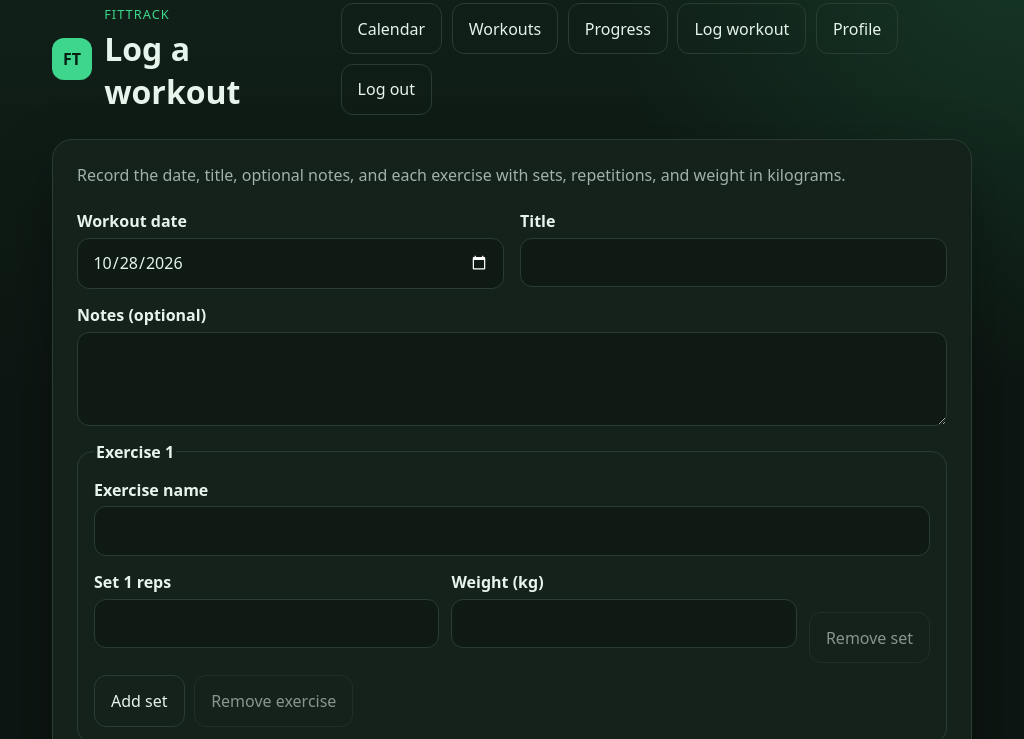
Test: S2 workout pages › keeps entered values when saving fails
This screenshot has width=1024, height=739.
Type "Push day" into the field labelled "Title" at [734, 262], box [520, 238, 947, 287]
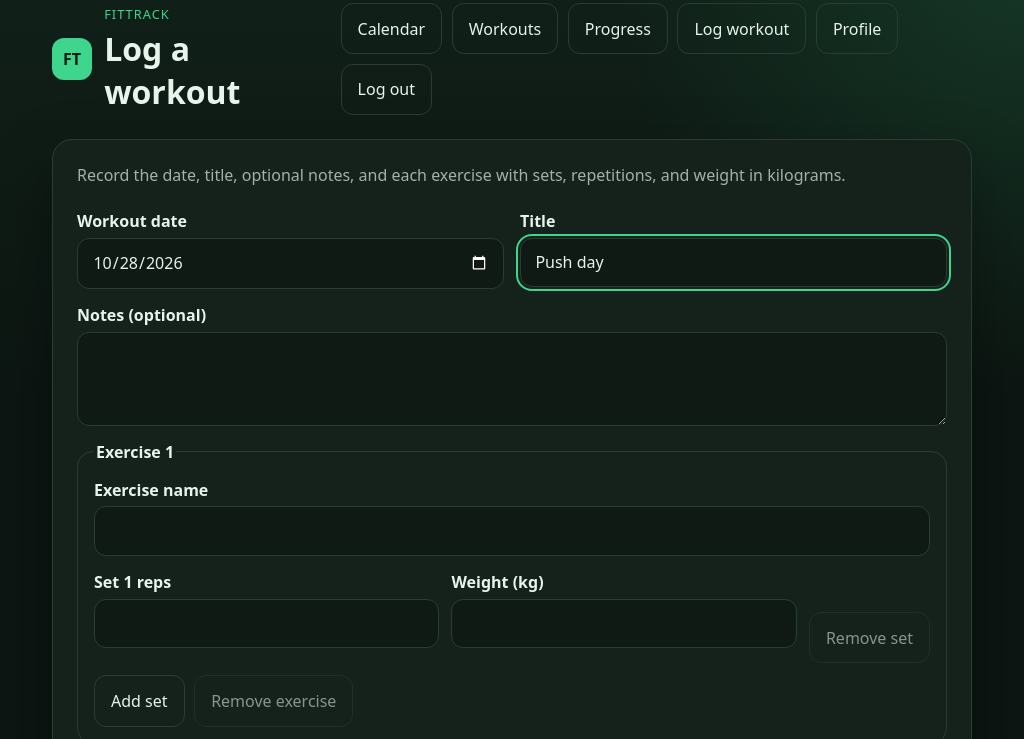
Type "Bench press" into the field labelled "Exercise name" at [512, 531], box [94, 506, 930, 556]
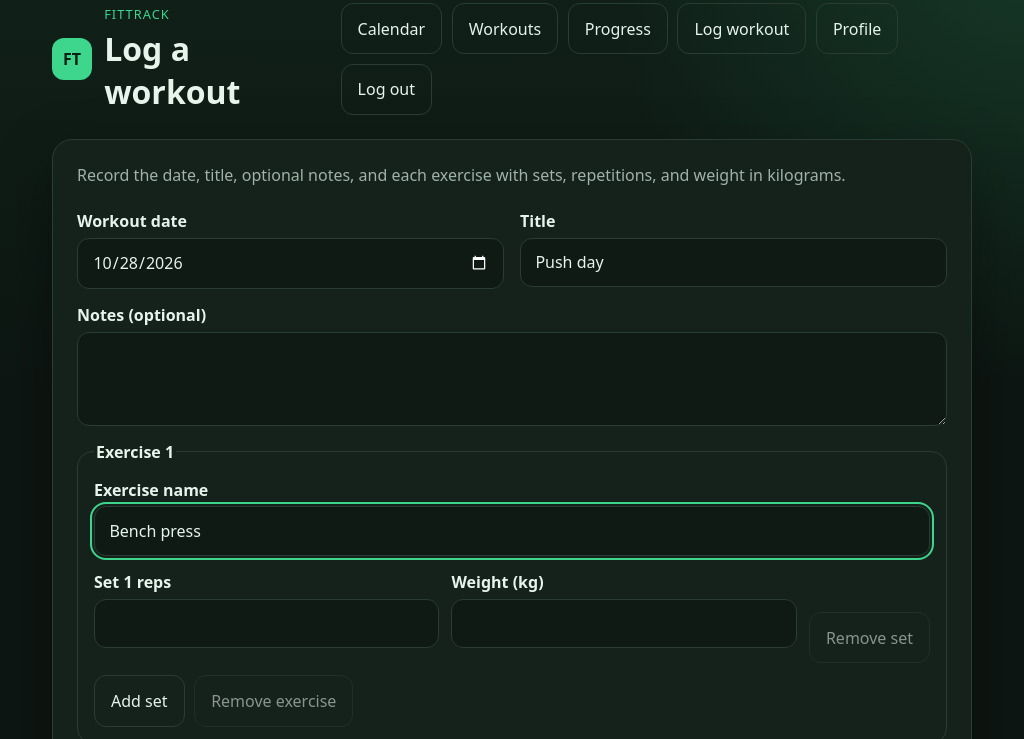
Type "8" into the number field labelled "Set 1 reps" at [267, 624], box [94, 599, 440, 648]
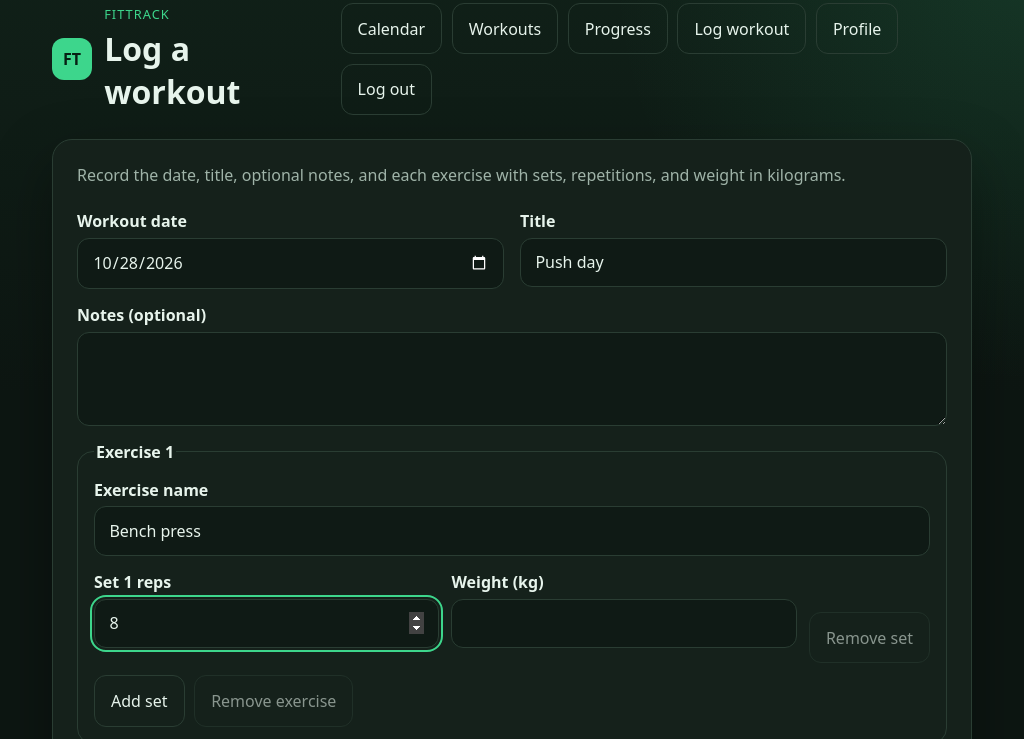
Type "60" into the number field labelled "Weight (kg)" at [624, 624], box [452, 599, 797, 648]
(page scrolled)
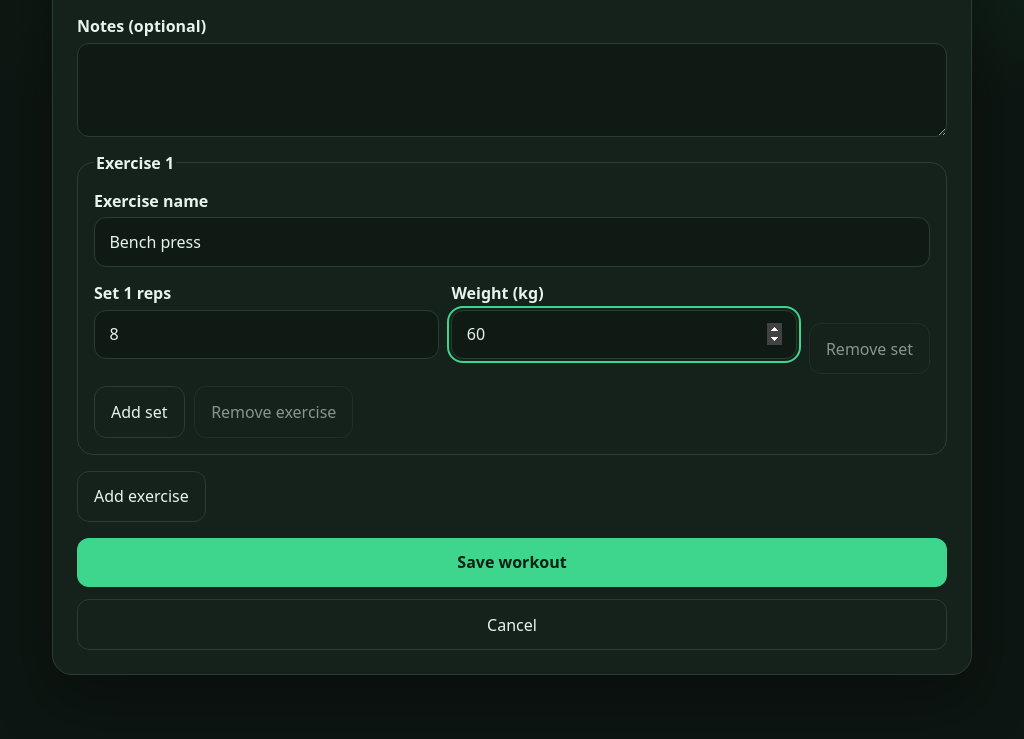
Click the button "Save workout" at [512, 562], box [77, 538, 947, 587]
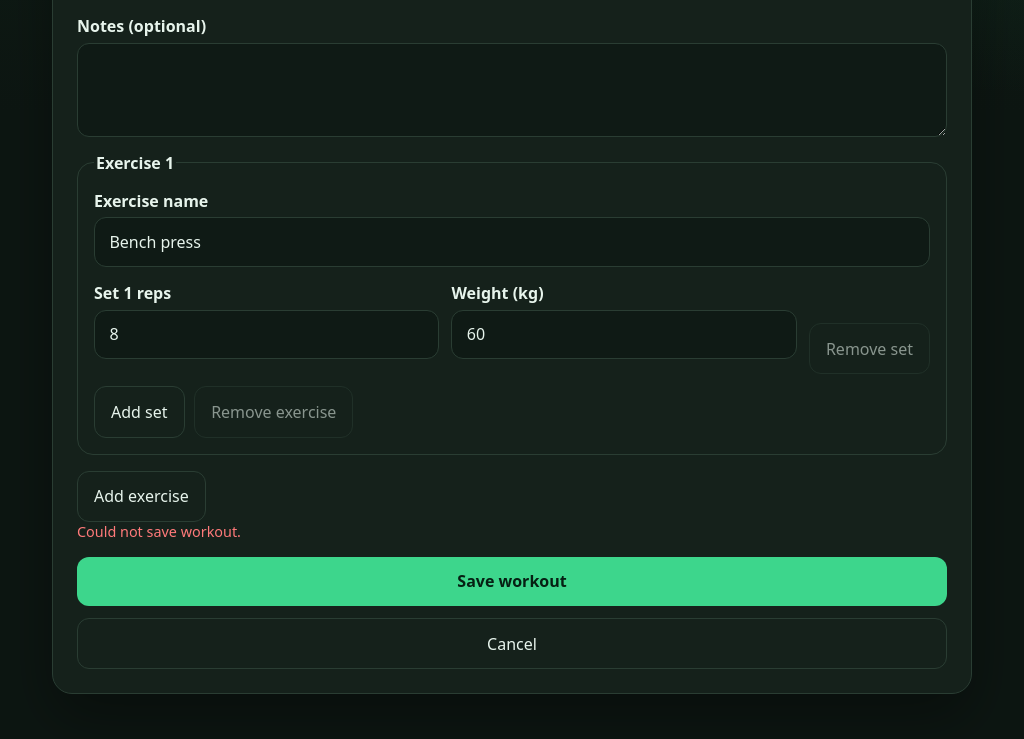
Check: the text "Could not save workout." is shown, box [77, 522, 241, 541]
